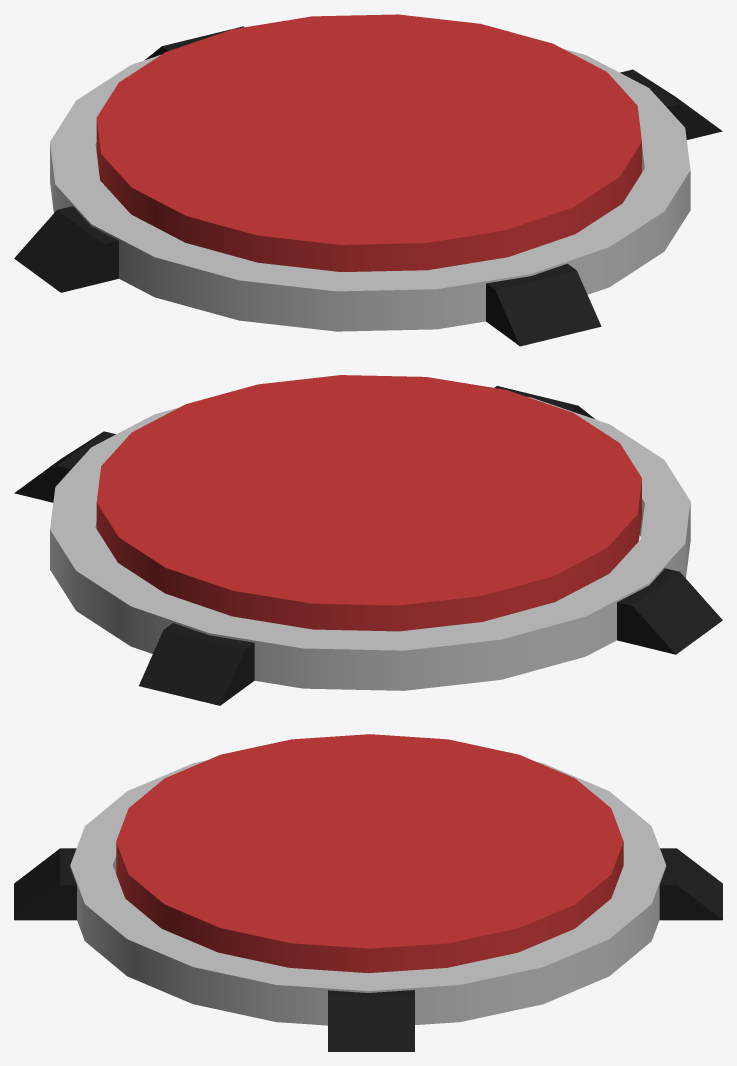
File: Floor_Switch2.fbx
3 views of the same model, one above another, from view 1: azimuth 30°, elevation 25°; view 2: azimuth 150°, elevation 25°; view 3: azimuth 270°, elevation 25° (orthographic). The views are drawn at different scales.
Visible parts, largest first — view 1: pCylinder1, pPipe1, pasted__pasted__pCube1, pasted__pCube1, pCube1; view 2: pCylinder1, pPipe1, pasted__pCube1 (×2), pCube1; view 3: pCylinder1, pPipe1, pCube1, pasted__pCube1, pasted__pasted__pCube1.
Part boxes in pixels (x1=…): pCylinder1: x1=96, y1=14, x2=641, y2=271; pPipe1: x1=50, y1=49, x2=690, y2=331; pasted__pasted__pCube1: x1=486, y1=263, x2=601, y2=346; pasted__pCube1: x1=14, y1=206, x2=118, y2=292; pCube1: x1=620, y1=69, x2=722, y2=139; pCylinder1: x1=96, y1=375, x2=641, y2=631; pPipe1: x1=50, y1=397, x2=690, y2=690; pasted__pCube1 (×2): x1=139, y1=568, x2=722, y2=705; pCube1: x1=14, y1=431, x2=115, y2=502; pCylinder1: x1=116, y1=734, x2=623, y2=973; pPipe1: x1=70, y1=760, x2=666, y2=1025; pCube1: x1=328, y1=990, x2=414, y2=1051; pasted__pCube1: x1=659, y1=848, x2=722, y2=920; pasted__pasted__pCube1: x1=14, y1=848, x2=76, y2=920.
Size of the model in its own units: 18.34 by 1.74 by 18.38.
